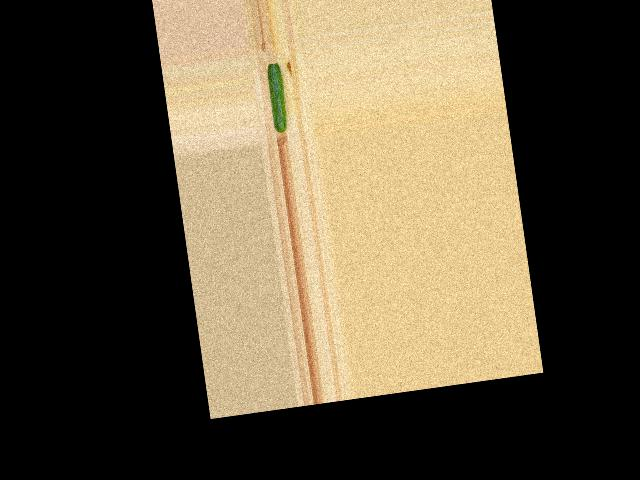cucumber: (266, 63, 289, 133)
